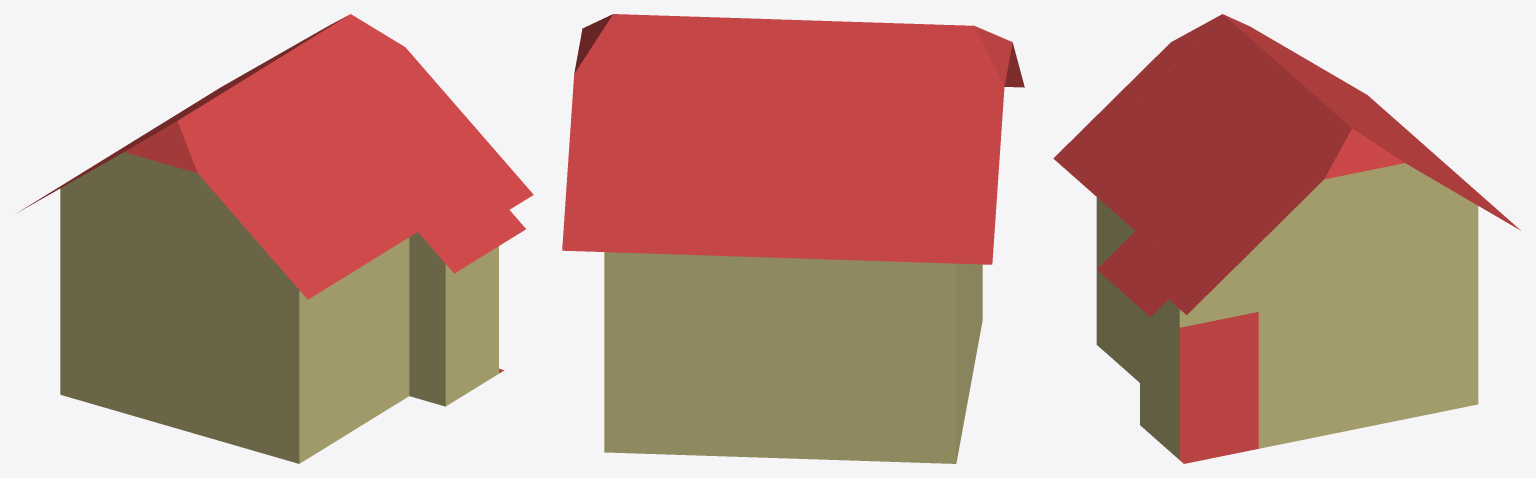
3 renders of one model, left to right at view 1: azimuth 30°, elevation 25°; view 2: azimuth 150°, elevation 25°; view 3: azimuth 270°, elevation 25°, orthographic. The views are drawn at different scales.
Size of the model in its own units: 14.88 by 14.44 by 10.32.
